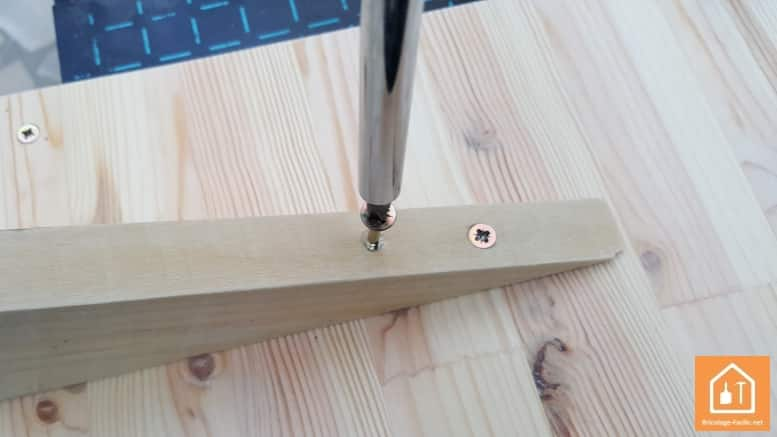screw: (354, 201, 403, 257), (468, 219, 499, 249), (15, 125, 39, 146)
